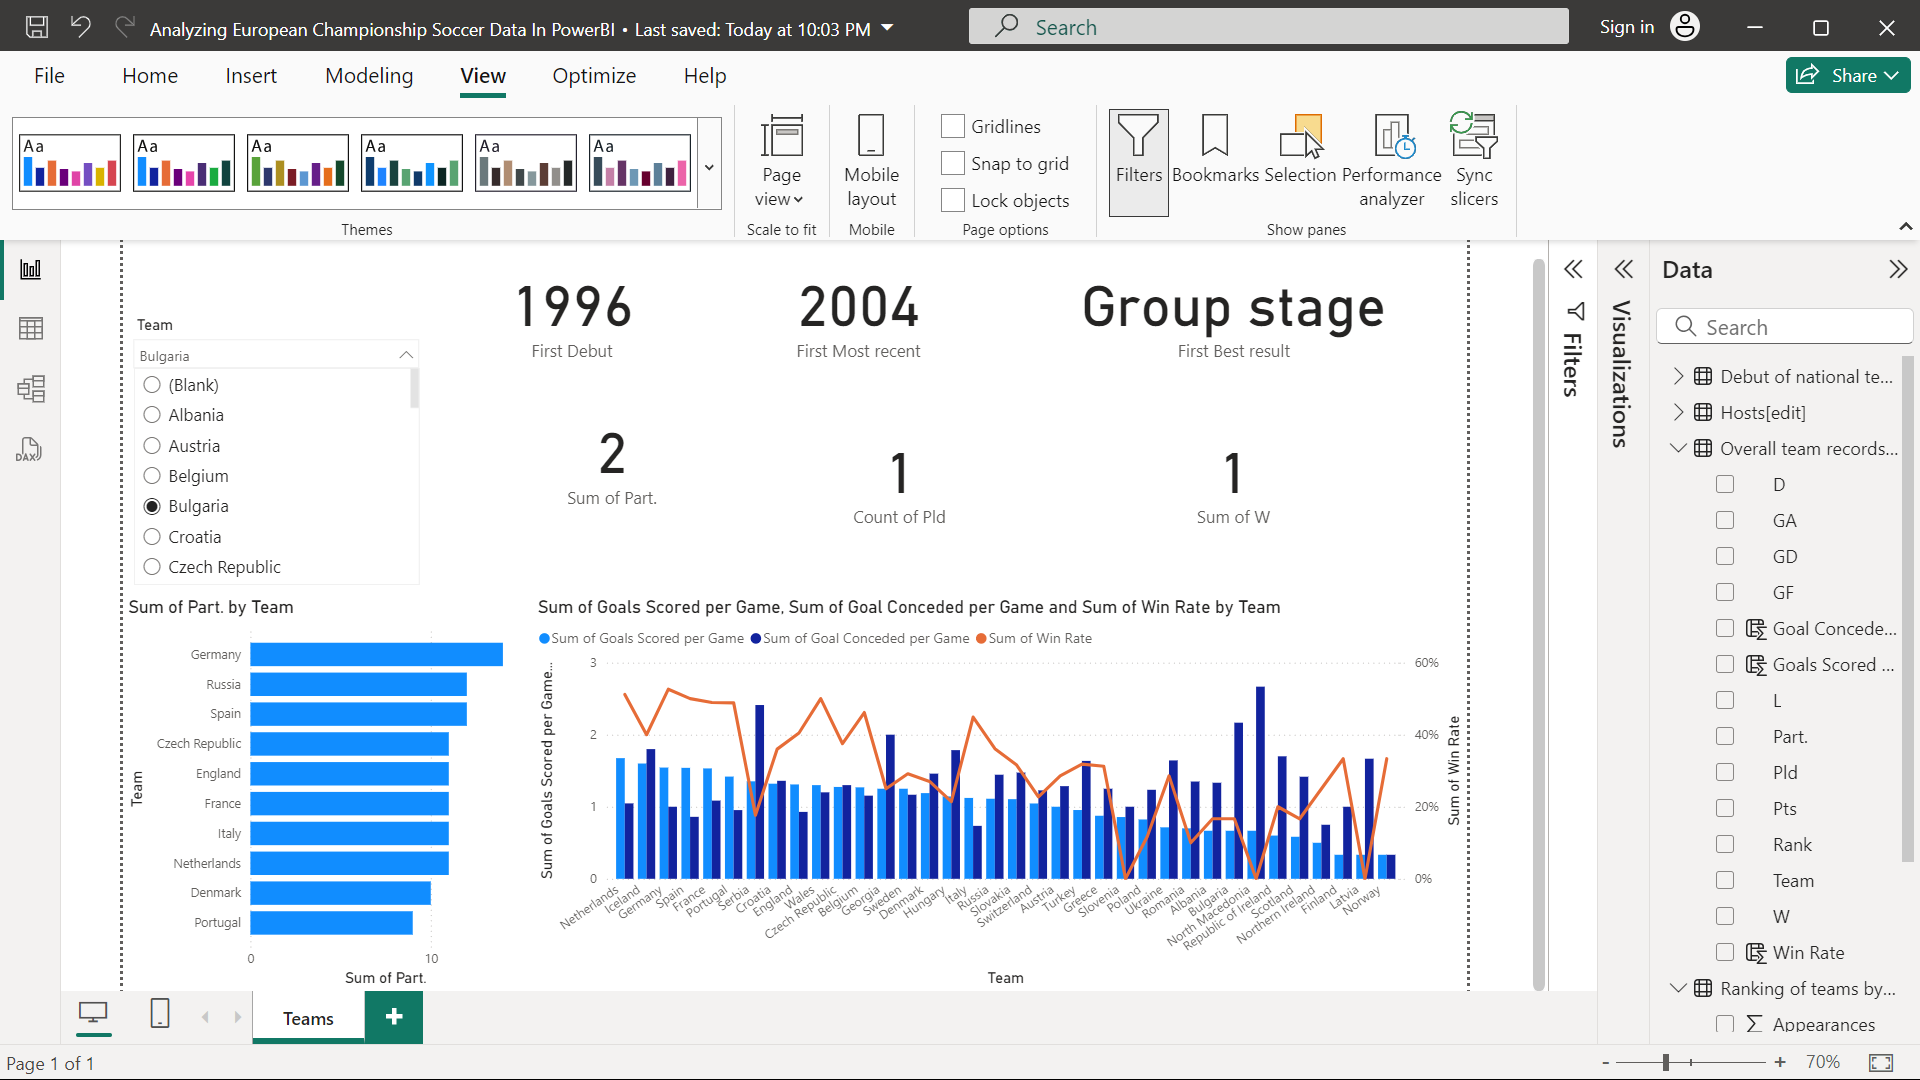

Layout of this report page (visuals, bound fields, positions):
{"tool":"powerbi","page":{"name":"Teams","canvas":[1280,720],"ordinal":0},"visuals":[{"type":"lineClusteredColumnComboChart","fields":{"Category":["Overall team records[edit].Team"],"Y":["Sum(Overall team records[edit].Goals Scored per Game)","Sum(Overall team records[edit].Goal Conceded per Game)"],"Y2":["Sum(Overall team records[edit].Win Rate)"]},"box":[390.7,343.7,888.8,375.5],"z":0},{"type":"clusteredBarChart","fields":{"Category":["Overall team records[edit].Team"],"Y":["Sum(Overall team records[edit].Part.)"]},"box":[0,343.7,390.7,375.5],"z":1000},{"type":"card","fields":{"Values":["CountNonNull(Overall team records[edit].Pld)"]},"box":[604,128,270,202],"z":2000},{"type":"card","fields":{"Values":["Sum(Overall team records[edit].Part.)"]},"box":[292,110,348,202],"z":3000},{"type":"card","fields":{"Values":["Sum(Overall team records[edit].W)"]},"box":[924,128,266,202],"z":4000},{"type":"card","fields":{"Values":["Min(Ranking of teams by number of appearances[edit].Debut)"]},"box":[292,0,272,142],"z":5000},{"type":"card","fields":{"Values":["Min(Ranking of teams by number of appearances[edit].Most recent)"]},"box":[564,0,272,142],"z":6000},{"type":"card","fields":{"Values":["Min(Ranking of teams by number of appearances[edit].Best result)"]},"box":[836,0,444,142],"z":7000},{"type":"slicer","fields":{"Values":["Overall team records[edit].Team"]},"box":[0,72,292,110],"z":7001}]}

Visuals, with their boxes on the page's 1280x720 design canvas (x1, y1, x2, y2). These are canvas units, not pixel positions in the 1920x1080 screenshot, which may show the page scaled, cropped or inside an application window:
lineClusteredColumnComboChart - Overall team records[edit].Team x Sum(Overall team records[edit].Goals Scored per Game): (left=391, top=344, right=1280, bottom=719)
clusteredBarChart - Overall team records[edit].Team x Sum(Overall team records[edit].Part.): (left=0, top=344, right=391, bottom=719)
card - CountNonNull(Overall team records[edit].Pld): (left=604, top=128, right=874, bottom=330)
card - Sum(Overall team records[edit].Part.): (left=292, top=110, right=640, bottom=312)
card - Sum(Overall team records[edit].W): (left=924, top=128, right=1190, bottom=330)
card - Min(Ranking of teams by number of appearances[edit].Debut): (left=292, top=0, right=564, bottom=142)
card - Min(Ranking of teams by number of appearances[edit].Most recent): (left=564, top=0, right=836, bottom=142)
card - Min(Ranking of teams by number of appearances[edit].Best result): (left=836, top=0, right=1280, bottom=142)
slicer - Overall team records[edit].Team: (left=0, top=72, right=292, bottom=182)
